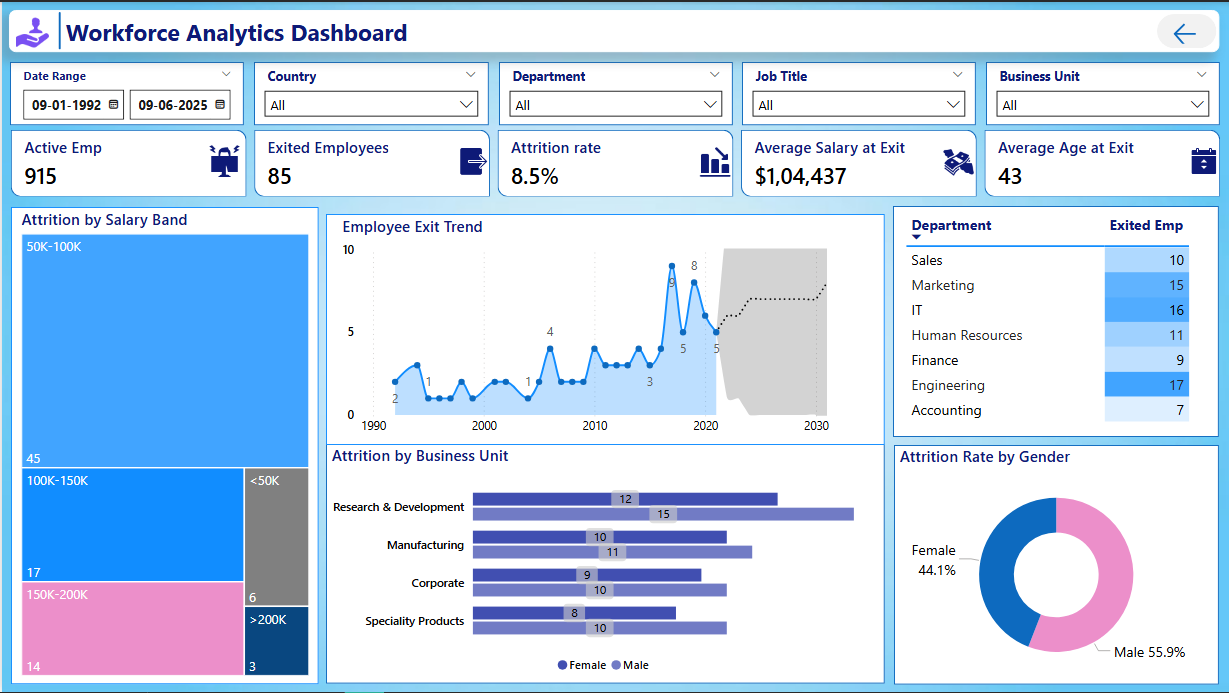

What the dashboard file says about the page in this screenshot:
{"tool":"powerbi","page":{"name":"Employee Attrition Overview","canvas":[1280,720],"ordinal":1},"visuals":[{"type":"group","id":"g1","title":"Group 1","box":[7.7,8.3,1263,43.8],"z":0,"group":"g3"},{"type":"textbox","box":[7.7,8.3,1263,43.8],"z":0,"group":"g1"},{"type":"cardVisual","fields":{"Data":["_Measures.Active Emp","_Measures.Exited Emp","_Measures.Attrition rate","_Measures.Avg Salary at Exit","_Measures.Avg Age at Exit"]},"box":[4.4,128,1275.6,81],"z":1000},{"type":"slicer","fields":{"Values":["DateTable.Date"]},"box":[8.9,62.4,244,65.6],"z":2000,"group":"g2"},{"type":"donutChart","title":"Attrition Rate by Gender","fields":{"Category":["EmployeesData.Gender"],"Y":["_Measures.Attrition rate"]},"box":[930.3,462,339,250.3],"z":2000},{"type":"slicer","fields":{"Values":["EmployeesData.Country"]},"box":[263.3,62.4,245.1,65.6],"z":3000,"group":"g2"},{"type":"clusteredBarChart","title":"Attrition by Business Unit","fields":{"Series":["EmployeesData.Gender"],"Category":["EmployeesData.Business Unit"],"Y":["_Measures.Exited Emp"]},"box":[338.3,461.7,582.9,250.3],"z":3000},{"type":"slicer","fields":{"Values":["EmployeesData.Department"]},"box":[518.7,62.4,244,65.6],"z":4000,"group":"g2"},{"type":"lineChart","title":"Employee Exit Trend","fields":{"Category":["DateTable.Year"],"Y":["_Measures.Exited Emp"]},"box":[338.1,221,583.1,240.7],"z":4000},{"type":"slicer","fields":{"Values":["EmployeesData.Job Title"]},"box":[773.1,62.4,244,65.6],"z":5000,"group":"g2"},{"type":"tableEx","title":"Exits by Department","fields":{"Values":["EmployeesData.Department","_Measures.Exited Emp"]},"box":[929.9,213.3,340.2,240.7],"z":5000},{"type":"group","id":"g2","title":"Group 2","box":[8.9,62.4,1262.5,65.6],"z":6000},{"type":"slicer","fields":{"Values":["EmployeesData.Business Unit"]},"box":[1027.4,62.4,244,65.6],"z":6000,"group":"g2"},{"type":"treemap","title":"Attrition by Salary Band","fields":{"Group":["EmployeesData.Salary Band"],"Values":["_Measures.Exited Emp"]},"box":[9.1,213.7,321.1,498.3],"z":7000},{"type":"actionButton","title":"afsd","box":[1206,12,62.4,36],"z":8000,"group":"g3"},{"type":"shape","box":[54.5,10.2,12,39.2],"z":9000,"group":"g3"},{"type":"image","box":[9.2,8,46.9,46.9],"z":10000,"group":"g3"},{"type":"group","id":"g3","title":"Group 3","box":[7.7,8,1263,46.9],"z":10001}]}

Visuals, with their boxes in screenshot pixels (x1, y1, x2, y2), scaled from the page's 1280x720 canvas onto the 1229x693 screenshot:
"Group 1" group: Rect(7, 8, 1220, 50)
textbox: Rect(7, 8, 1220, 50)
cardVisual - _Measures.Active Emp x _Measures.Exited Emp: Rect(4, 123, 1228, 201)
slicer - DateTable.Date: Rect(9, 60, 243, 123)
"Attrition Rate by Gender" donutChart: Rect(893, 445, 1219, 686)
slicer - EmployeesData.Country: Rect(253, 60, 488, 123)
"Attrition by Business Unit" clusteredBarChart: Rect(325, 444, 884, 685)
slicer - EmployeesData.Department: Rect(498, 60, 732, 123)
"Employee Exit Trend" lineChart: Rect(325, 213, 884, 444)
slicer - EmployeesData.Job Title: Rect(742, 60, 977, 123)
"Exits by Department" tableEx: Rect(893, 205, 1219, 437)
"Group 2" group: Rect(9, 60, 1221, 123)
slicer - EmployeesData.Business Unit: Rect(986, 60, 1221, 123)
"Attrition by Salary Band" treemap: Rect(9, 206, 317, 685)
"afsd" actionButton: Rect(1158, 12, 1218, 46)
shape: Rect(52, 10, 64, 48)
image: Rect(9, 8, 54, 53)
"Group 3" group: Rect(7, 8, 1220, 53)
